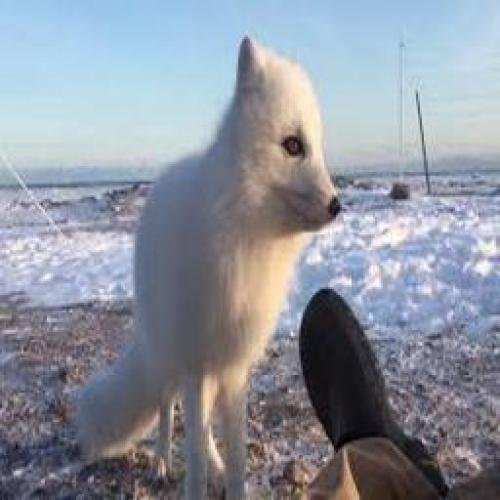arctic_fox-endangered: (70, 32, 344, 494)
